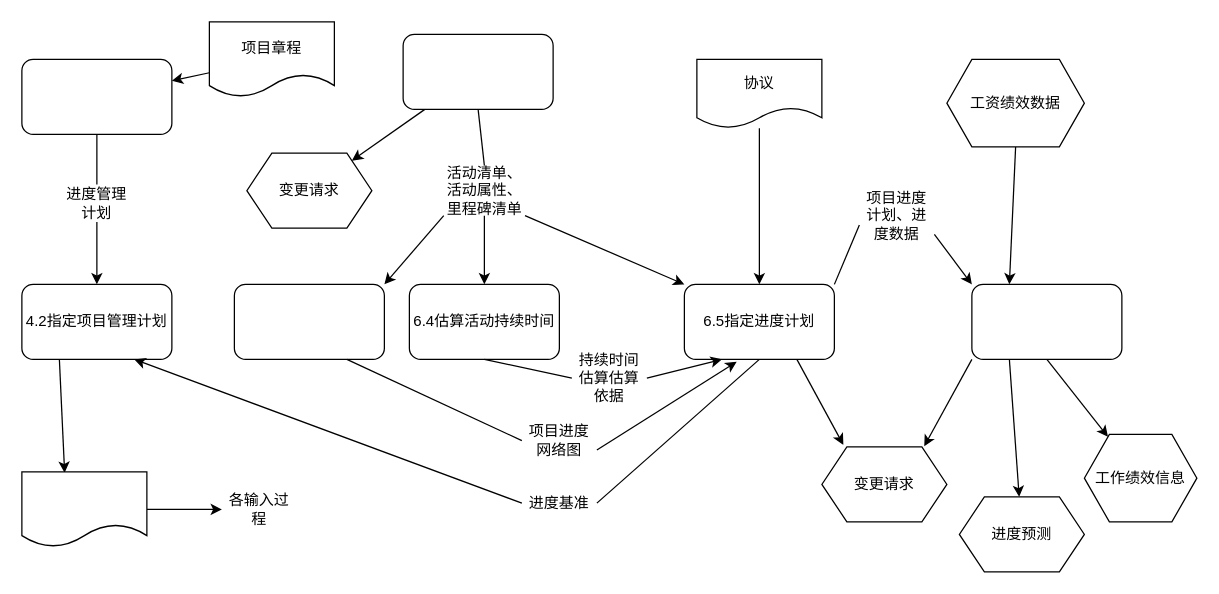
The diagram is 1219 pixels wide and 594 high, and some of its shapes have lost their labels. The shapes that lost their labels are listed below. From the top down, each one's centre as x and y in pixels, then its label:
the point at 477,71: 6.2定义活动
the point at 96,96: 6.1规划进度管理
the point at 308,321: 6.3排列活动顺序
the point at 1046,321: 6.6控制进度
the point at 84,509: 项目管理计划
